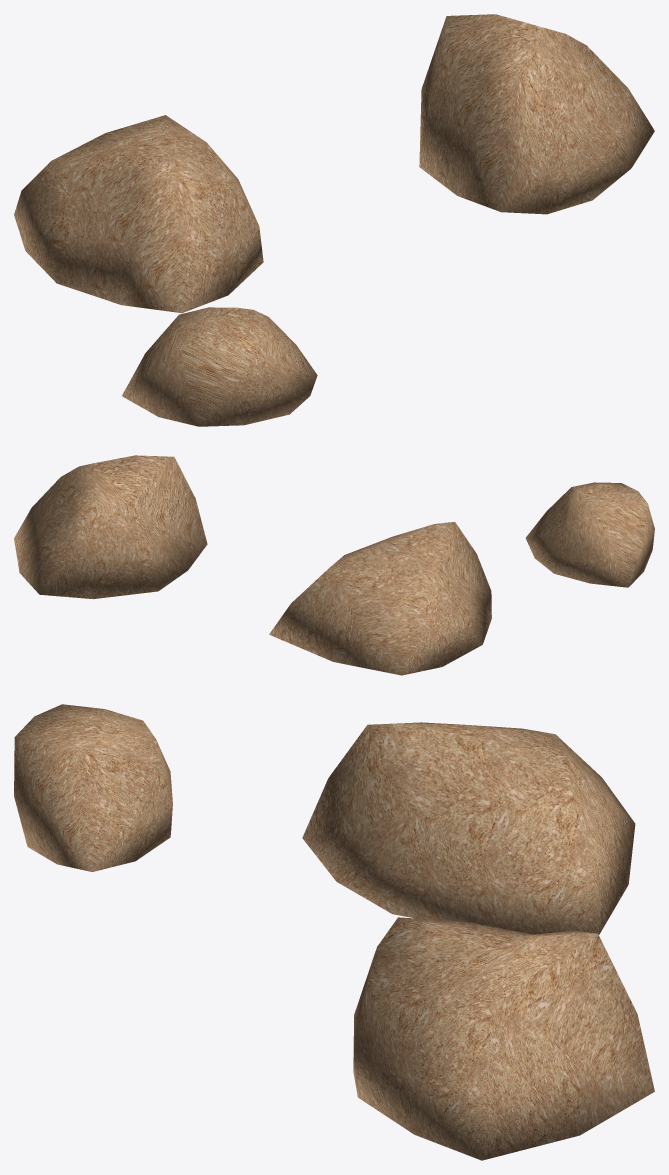
Rendered from rock_pebbleclump_a2_l0.fbx.
3 views of the same model, one above another, from view 1: azimuth 30°, elevation 25°; view 2: azimuth 150°, elevation 25°; view 3: azimuth 270°, elevation 25° (orthographic). The views are drawn at different scales.
Parts seen in each view (by area): view 1: mesh_node; view 2: mesh_node; view 3: mesh_node.
Part boxes in pixels (left/top/right/bottom): mesh_node: left=14, top=14, right=654, bottom=426; mesh_node: left=14, top=455, right=654, bottom=675; mesh_node: left=14, top=704, right=654, bottom=1160.
Size of the model in its own units: 1.01 by 0.1979 by 0.7151.
